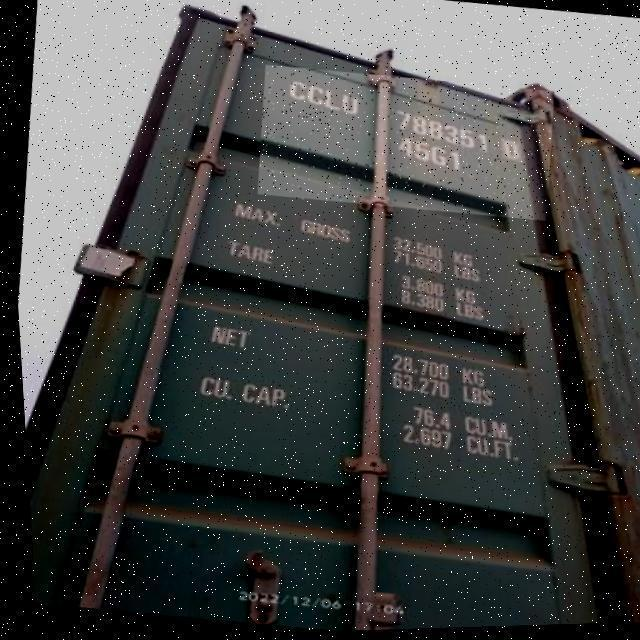container_number_h: (248, 60, 559, 233)
